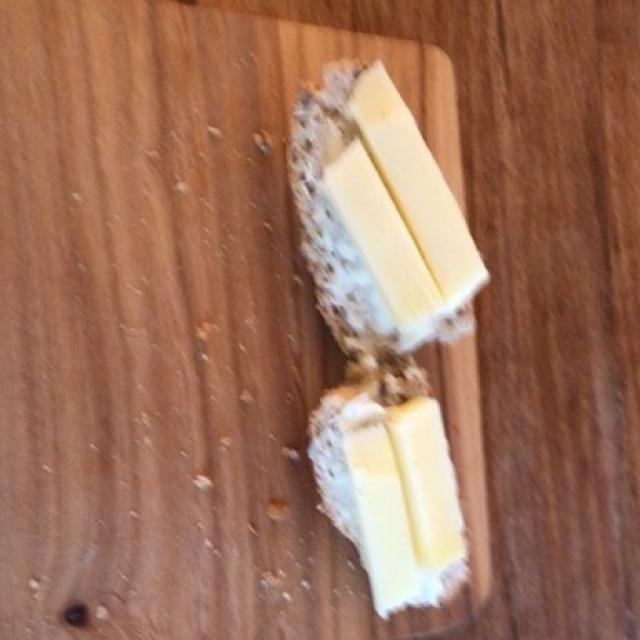bread: (287, 51, 479, 624)
gruyere: (327, 64, 486, 619)
